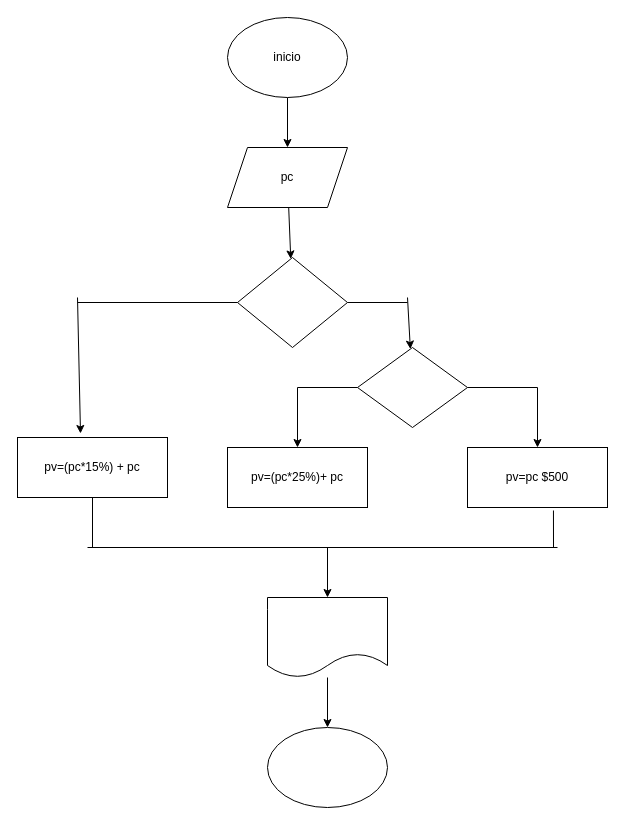
Image size: 625x825. Some labels were removed from this diagram. Here are the shapes that lost their labels. From the top down, the centre of each, then its label:
At [292,302]: "pc<$3000".
At [412,387]: "pc>$6000".
At [327,637]: "pv".
